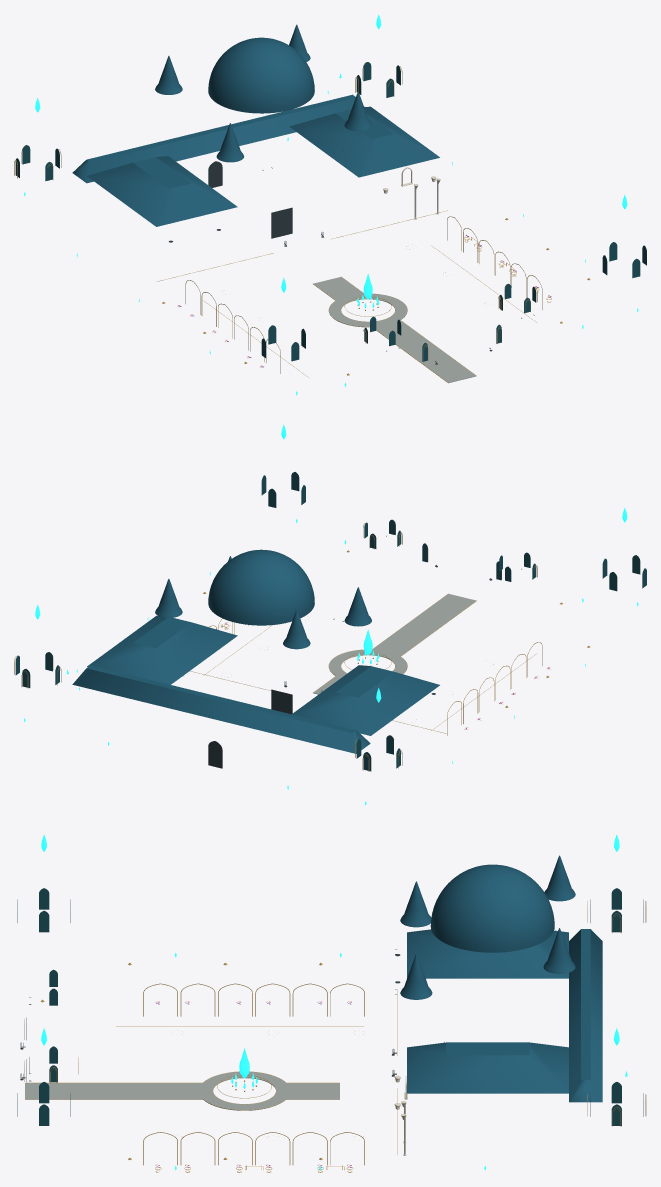
Rendered from castle-10.glb.
3 views of the same model, one above another, from view 1: azimuth 30°, elevation 25°; view 2: azimuth 150°, elevation 25°; view 3: azimuth 270°, elevation 25° (orthographic). The views are drawn at different scales.
Visible parts, largest first — view 1: NC.Export.Palace.TealRoof, NC.Export.Courtyard.PathStone, NC.Export.Fortifications.RoyalGlass, NC.Export.Courtyard.RoyalGold, NC.Export.Palace.DarkIron, NC.Export.Gatehouse.RoyalGlass; view 2: NC.Export.Palace.TealRoof, NC.Export.Courtyard.PathStone, NC.Export.Fortifications.RoyalGlass, NC.Export.Courtyard.RoyalGold, NC.Export.Palace.DarkIron, NC.Export.Gatehouse.RoyalGlass; view 3: NC.Export.Palace.TealRoof, NC.Export.Courtyard.PathStone, NC.Export.Fortifications.RoyalGlass, NC.Export.Courtyard.RoyalGold, NC.Export.Courtyard.PolishedBrass.01, NC.Export.Gatehouse.RoyalGlass.
Part boxes in pixels (bbox=[...]): NC.Export.Palace.TealRoof: bbox=[72, 24, 439, 226]; NC.Export.Courtyard.PathStone: bbox=[313, 277, 476, 383]; NC.Export.Fortifications.RoyalGlass: bbox=[15, 62, 646, 361]; NC.Export.Courtyard.RoyalGold: bbox=[157, 210, 590, 377]; NC.Export.Palace.DarkIron: bbox=[168, 150, 343, 246]; NC.Export.Gatehouse.RoyalGlass: bbox=[364, 283, 536, 361]; NC.Export.Palace.TealRoof: bbox=[72, 549, 439, 753]; NC.Export.Courtyard.PathStone: bbox=[313, 593, 476, 694]; NC.Export.Fortifications.RoyalGlass: bbox=[15, 472, 646, 771]; NC.Export.Courtyard.RoyalGold: bbox=[190, 550, 590, 735]; NC.Export.Palace.DarkIron: bbox=[208, 618, 435, 768]; NC.Export.Gatehouse.RoyalGlass: bbox=[364, 519, 536, 581]; NC.Export.Palace.TealRoof: bbox=[400, 855, 602, 1102]; NC.Export.Courtyard.PathStone: bbox=[25, 1071, 339, 1110]; NC.Export.Fortifications.RoyalGlass: bbox=[17, 888, 643, 1125]; NC.Export.Courtyard.RoyalGold: bbox=[41, 963, 397, 1165]; NC.Export.Courtyard.PolishedBrass.01: bbox=[25, 1071, 353, 1172]; NC.Export.Gatehouse.RoyalGlass: bbox=[26, 969, 57, 1082].
Size of the model in its own units: 108 by 51.12 by 133.
